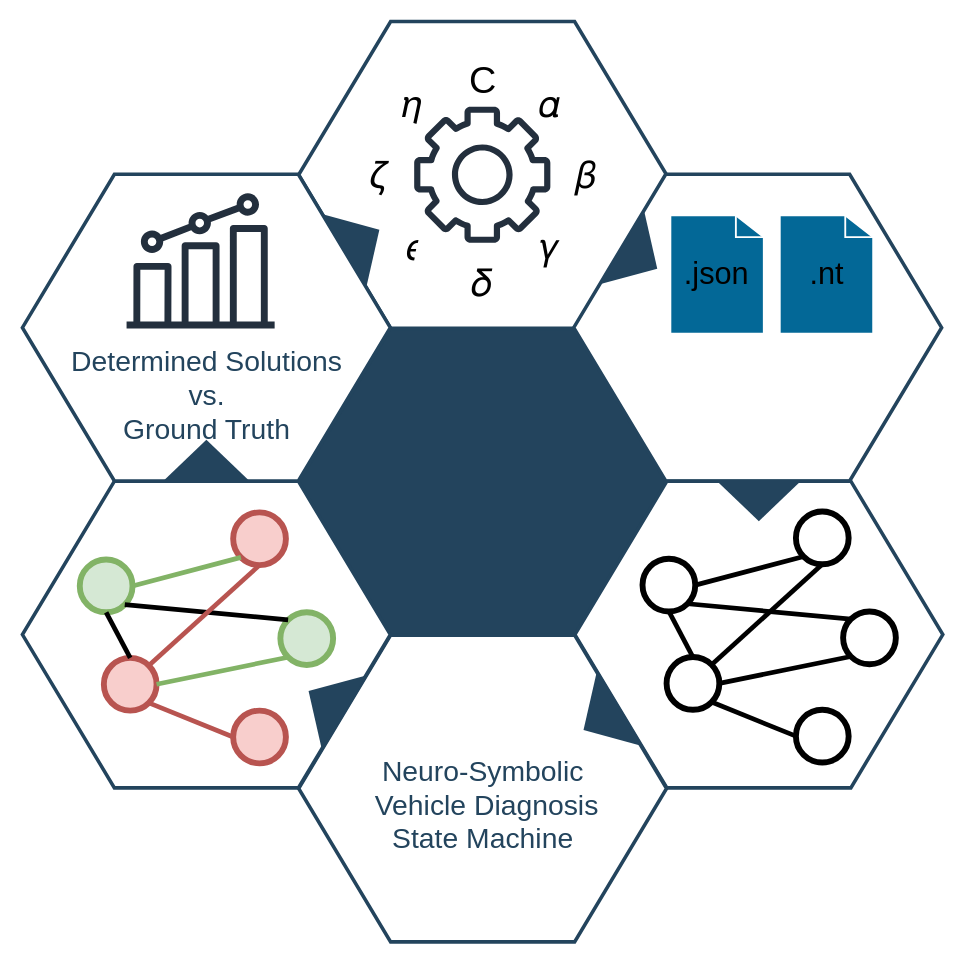
The diagram is 964 pixels wide and 964 high, and some of its shapes have lost their labels. Here are the shapes that lost their labels. From the top down, the box of each, then its label:
(571, 172, 943, 482): Problem Instance, Symbolic Knowledge, Ground Truth
(296, 326, 668, 636): Systematic Evaluation Process
